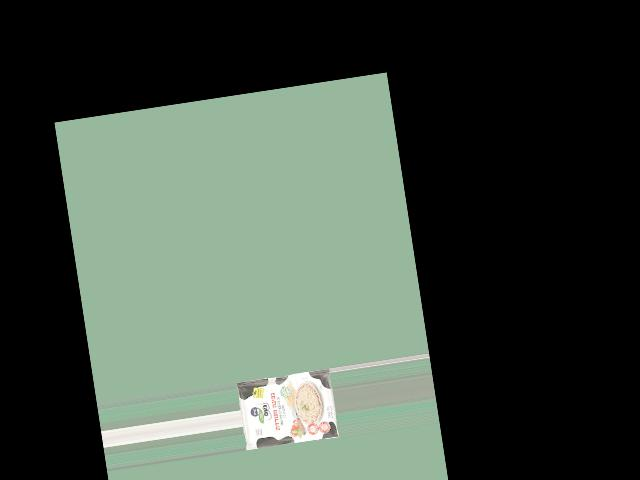cheese: (243, 367, 337, 461)
